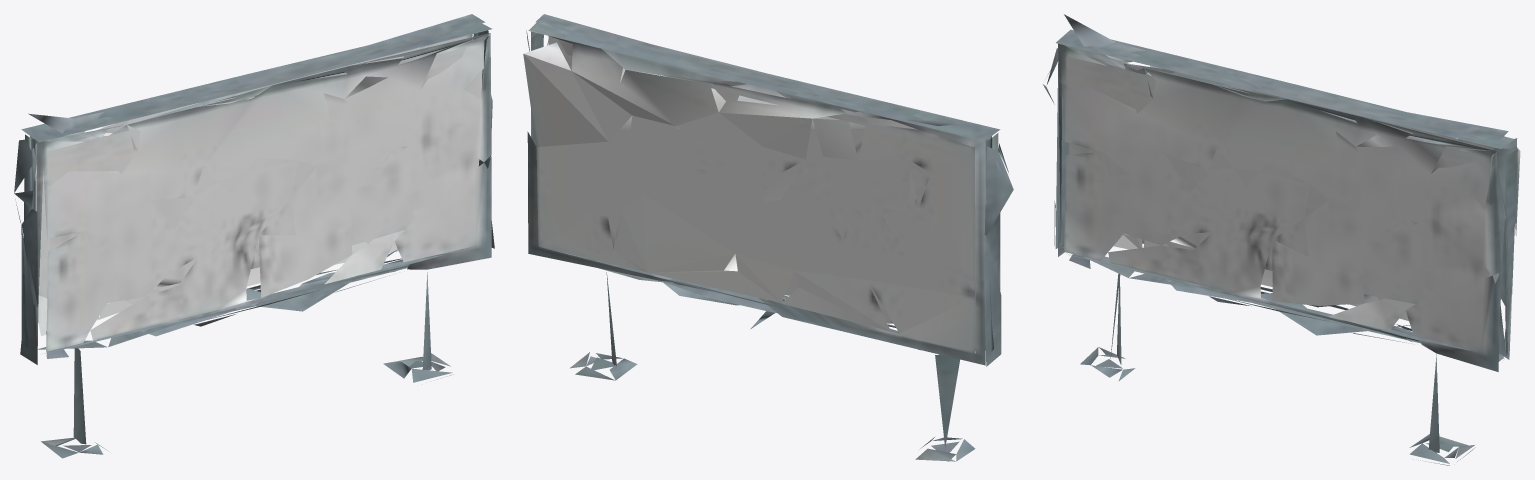
File: kueste_werbetafel_lo.glb
The picture shows the model from 3 angles, left to right: view 1: azimuth 30°, elevation 25°; view 2: azimuth 150°, elevation 25°; view 3: azimuth 330°, elevation 25°; orthographic projection. The views are drawn at different scales.
Visible parts, largest first — view 1: Prop; view 2: Prop; view 3: Prop.
Boxes of the visible parts, left/top/right/bottom form: Prop: left=14, top=14, right=494, bottom=458; Prop: left=523, top=14, right=1013, bottom=461; Prop: left=1043, top=14, right=1520, bottom=465.
Size of the model in its own units: 1.52 by 1.07 by 0.1663.
1 material, 1 textured.
